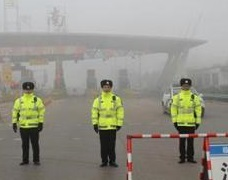person: (11, 81, 48, 166), (91, 78, 125, 167), (169, 77, 202, 165)
